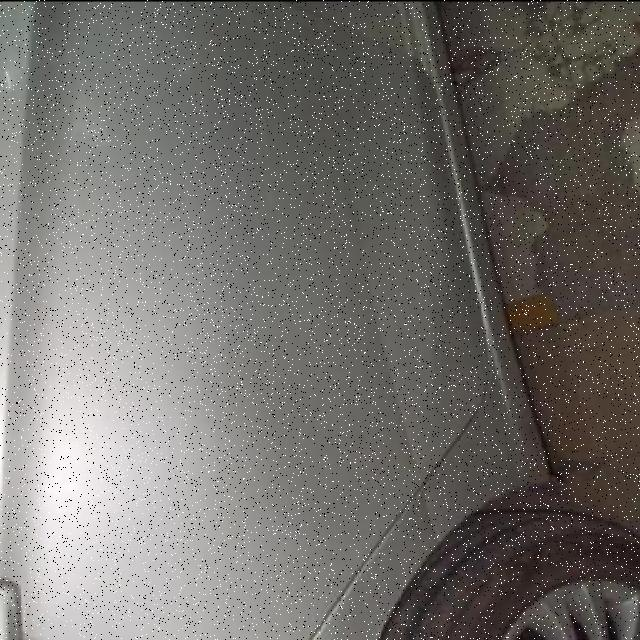damage: (329, 107, 449, 544), (250, 101, 280, 216)
